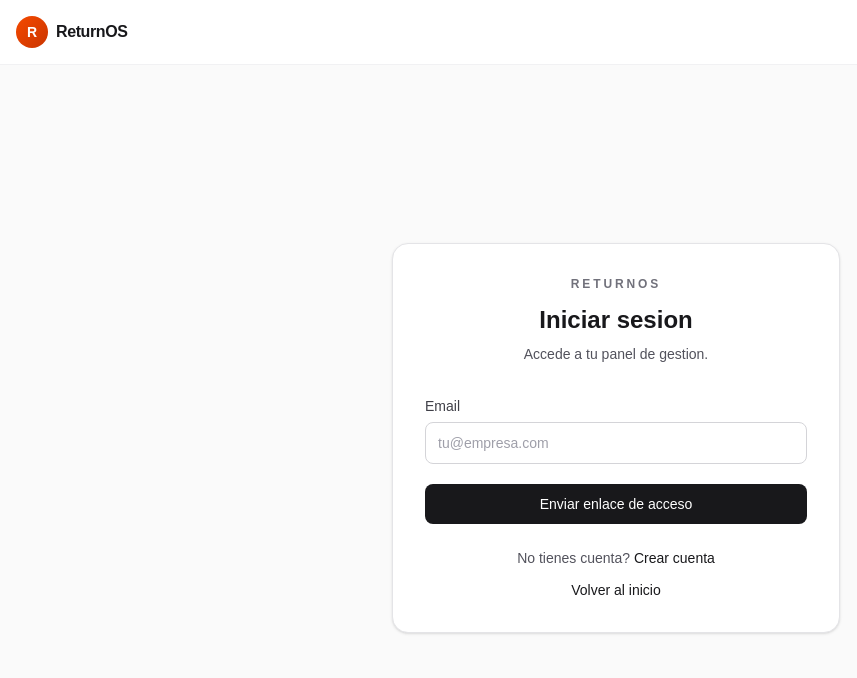
LoginPage integration › shows provider error message when auth fails
Type "owner@bakery.com" into the field labelled "Email".
click(616, 443); type("owner@bakery.com")  # box x1=425 y1=422 x2=807 y2=464
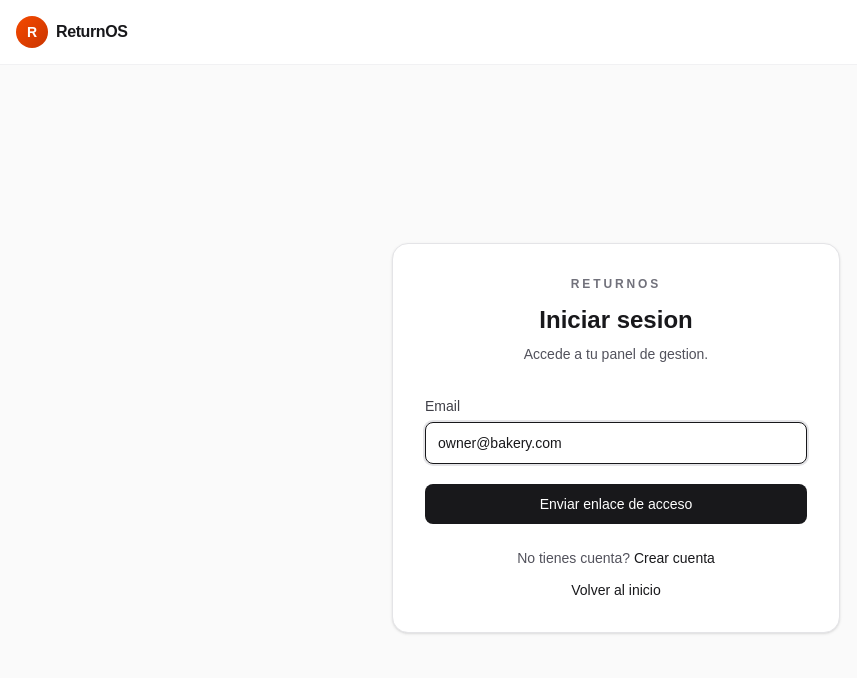
Click the button "Enviar enlace de acceso".
click(616, 504)  # box x1=425 y1=484 x2=807 y2=524
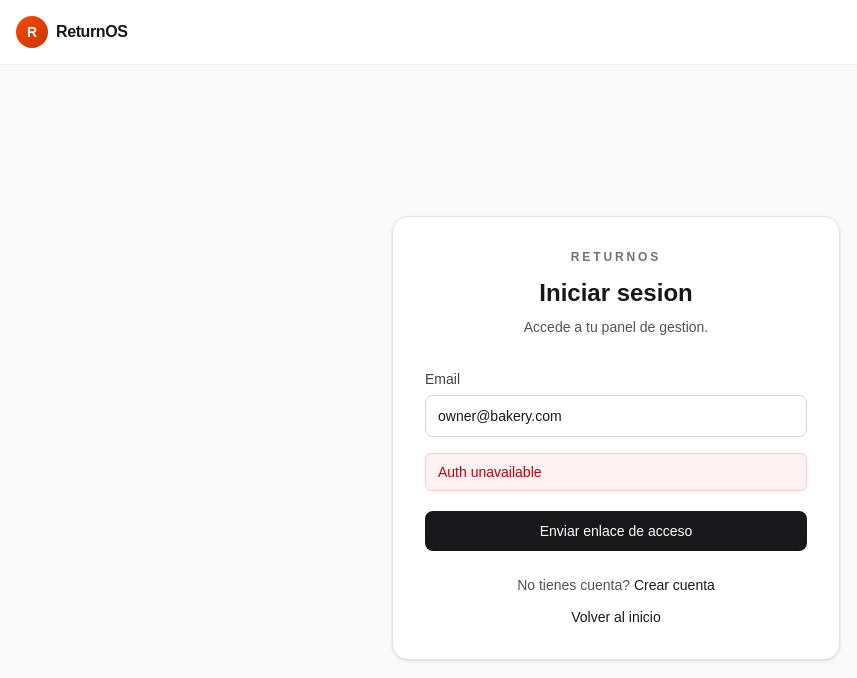
Now the message reads "Auth unavailable", box x1=438 y1=464 x2=542 y2=480
